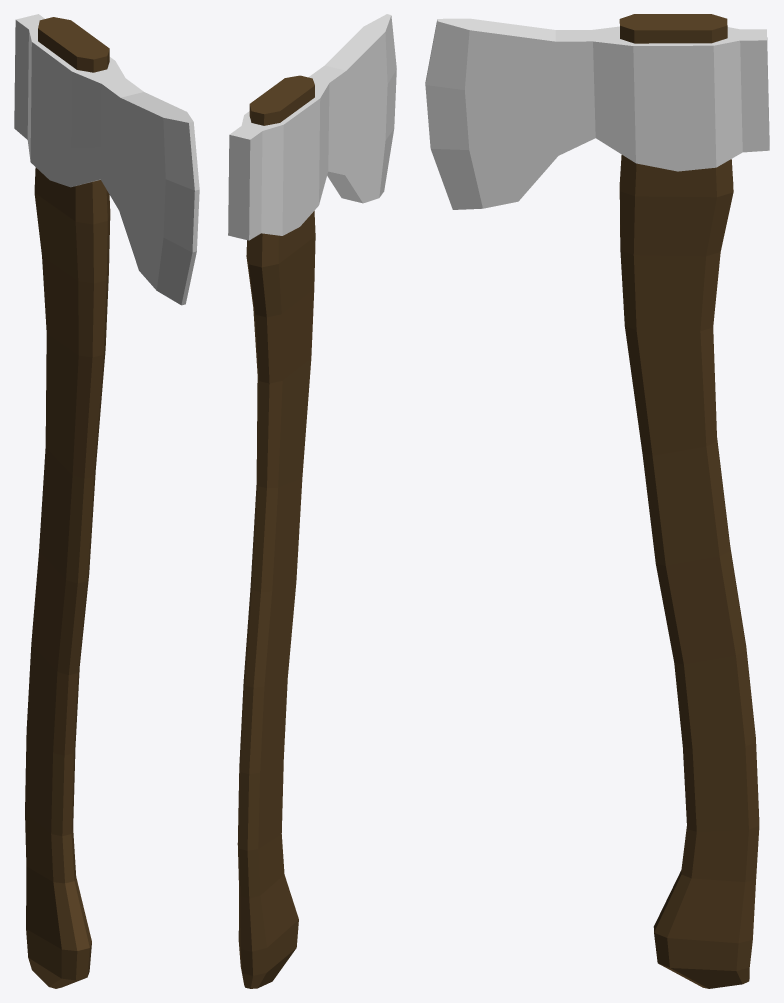
File: axe.glb
The picture shows the model from 3 angles, left to right: view 1: azimuth 30°, elevation 25°; view 2: azimuth 150°, elevation 25°; view 3: azimuth 270°, elevation 25°; orthographic projection. The views are drawn at different scales.
Parts seen in each view (by area): view 1: axe; view 2: axe; view 3: axe.
Part boxes in pixels (x1,y1,x2,y2): axe: (14, 14, 199, 988); axe: (228, 14, 396, 988); axe: (425, 14, 769, 988).
Bounding box in the file's own units: 0.8667 × 18.31 × 5.91.
